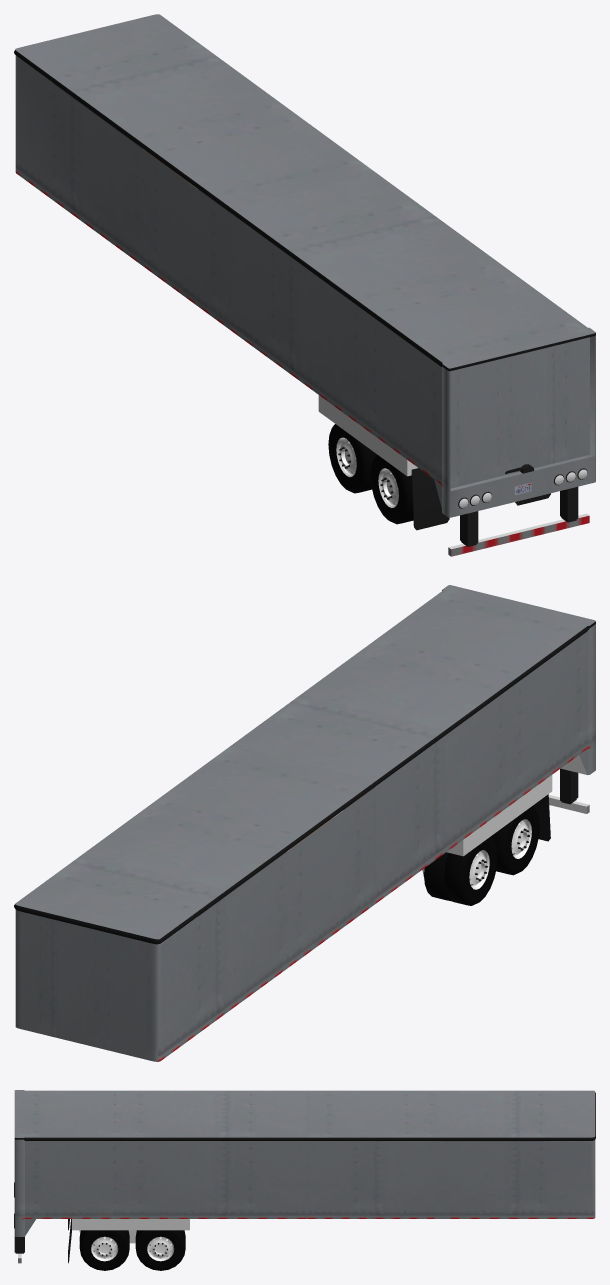
Rendered from MCLA_VA_SEMITRUCK_00_TRAILER.glb.
3 views of the same model, one above another, from view 1: azimuth 30°, elevation 25°; view 2: azimuth 150°, elevation 25°; view 3: azimuth 270°, elevation 25° (orthographic). The views are drawn at different scales.
Visible parts, largest first — view 1: va_semitruck_00_trailer/resources/vehicle/va_semitruck_00_tr (×3); view 2: va_semitruck_00_trailer/resources/vehicle/va_semitruck_00_tr (×5); view 3: va_semitruck_00_trailer/resources/vehicle/va_semitruck_00_tr (×5).
Boxes of the visible parts, x1=… form: va_semitruck_00_trailer/resources/vehicle/va_semitruck_00_tr (×3): x1=14, y1=14, x2=595, y2=556; va_semitruck_00_trailer/resources/vehicle/va_semitruck_00_tr (×5): x1=14, y1=585, x2=595, y2=1061; va_semitruck_00_trailer/resources/vehicle/va_semitruck_00_tr (×5): x1=14, y1=1090, x2=595, y2=1270.
Size of the model in its own units: 2.65 by 3.5 by 13.57.
8 materials, 6 textured.
